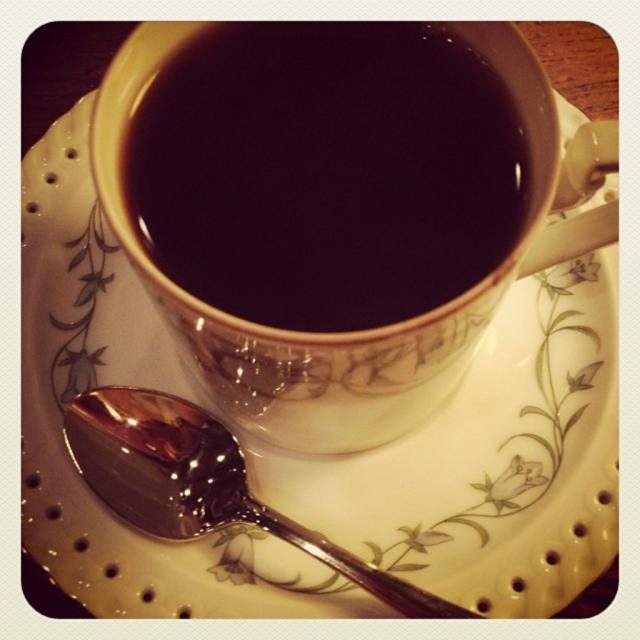Tea: (117, 11, 528, 330)
